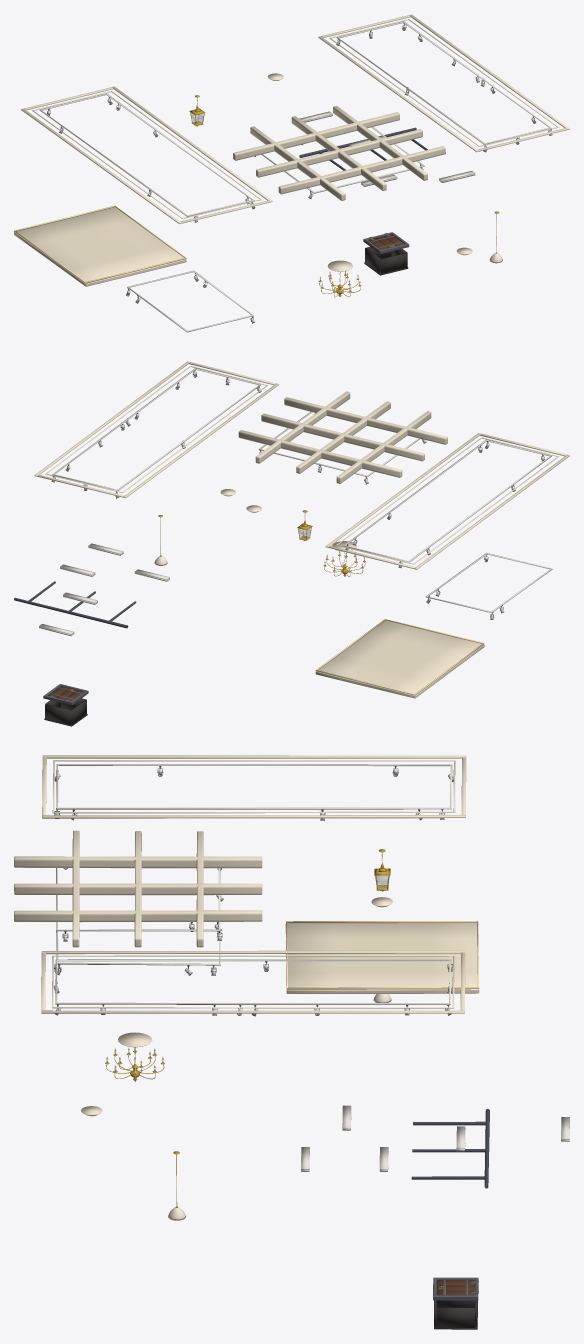
Rendered from Museum_Int_Utilities.fbx.
3 views of the same model, one above another, from view 1: azimuth 30°, elevation 25°; view 2: azimuth 150°, elevation 25°; view 3: azimuth 270°, elevation 25° (orthographic). The views are drawn at different scales.
Visible parts, largest first — view 1: Int_Ceiling_Features, Hatch_Pit; view 2: Int_Ceiling_Features, Hatch_Pit; view 3: Int_Ceiling_Features, Hatch_Pit.
Boxes of the visible parts, bbox=[...] form: Int_Ceiling_Features: bbox=[14, 14, 569, 332]; Hatch_Pit: bbox=[364, 247, 408, 275]; Int_Ceiling_Features: bbox=[14, 361, 569, 698]; Hatch_Pit: bbox=[44, 698, 87, 726]; Int_Ceiling_Features: bbox=[14, 755, 569, 1220]; Hatch_Pit: bbox=[434, 1300, 477, 1329].
Bounding box in the file's own units: 14.75 × 8.45 × 12.99.
